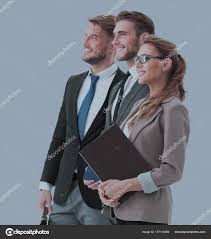person: (124, 31, 191, 135), (70, 19, 119, 79)
